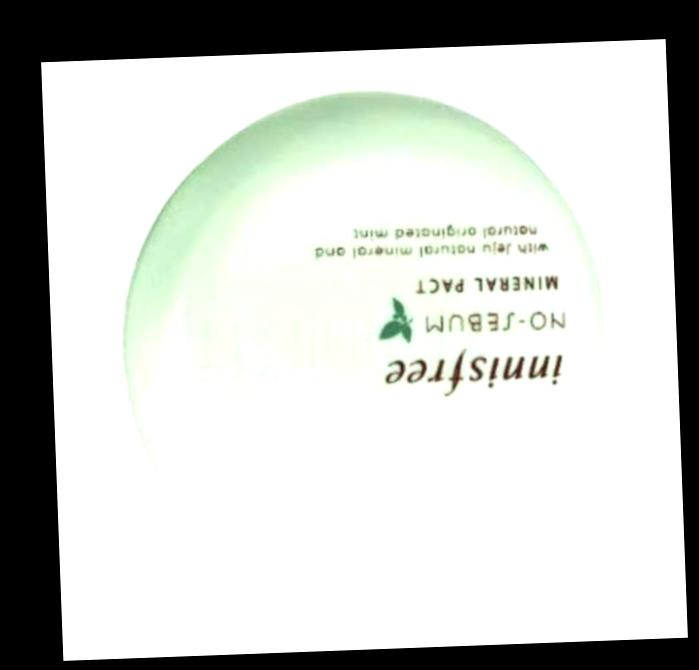cosmetic: (108, 79, 618, 602)
